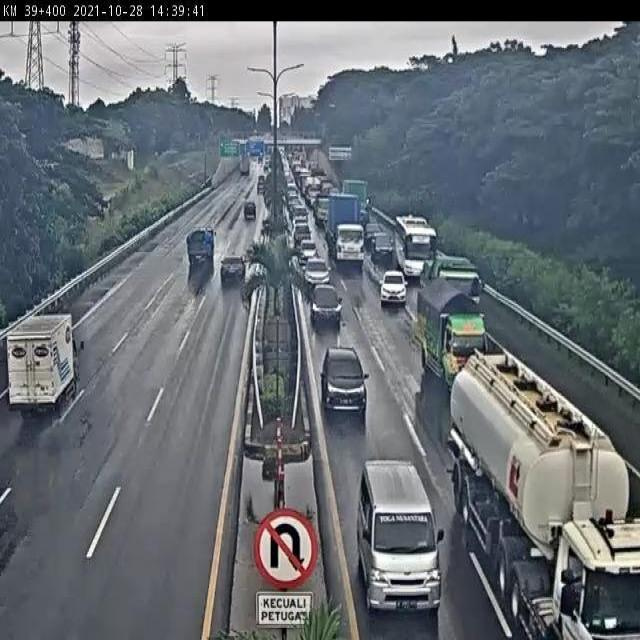big bus: (395, 212, 435, 277)
big truck: (450, 349, 640, 640), (328, 188, 367, 265)
car: (358, 457, 445, 616), (318, 349, 367, 415), (308, 287, 343, 328), (219, 255, 252, 288), (380, 269, 407, 304), (302, 252, 327, 281), (371, 229, 394, 259), (297, 236, 320, 263), (241, 203, 258, 224)
mid truck: (422, 251, 476, 325)
small truck: (6, 314, 80, 414), (183, 223, 216, 264)
truck-m-: (415, 278, 494, 391)
